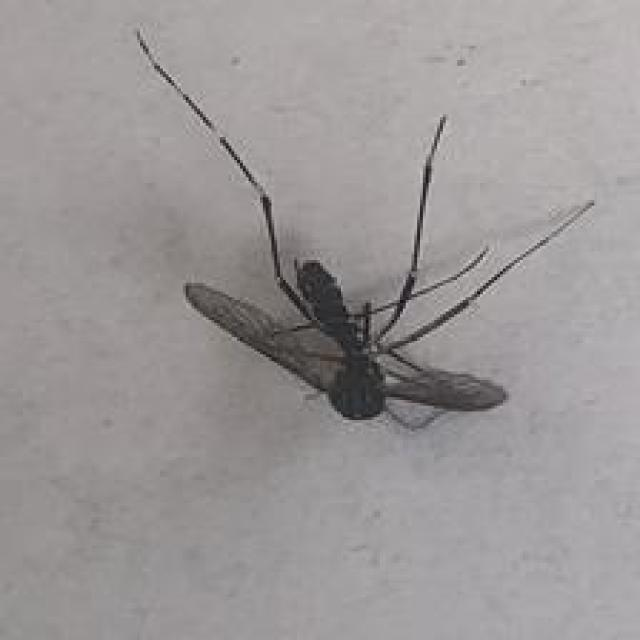Aedes albopictus: (133, 26, 596, 431)
